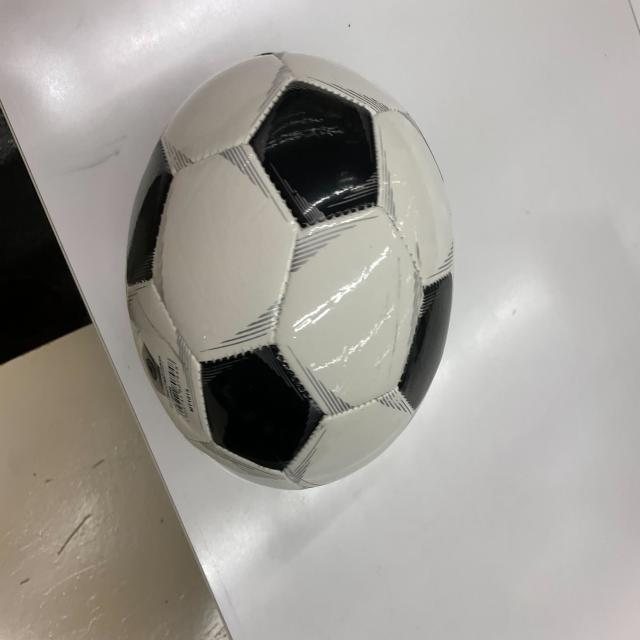ball: (128, 50, 454, 491)
